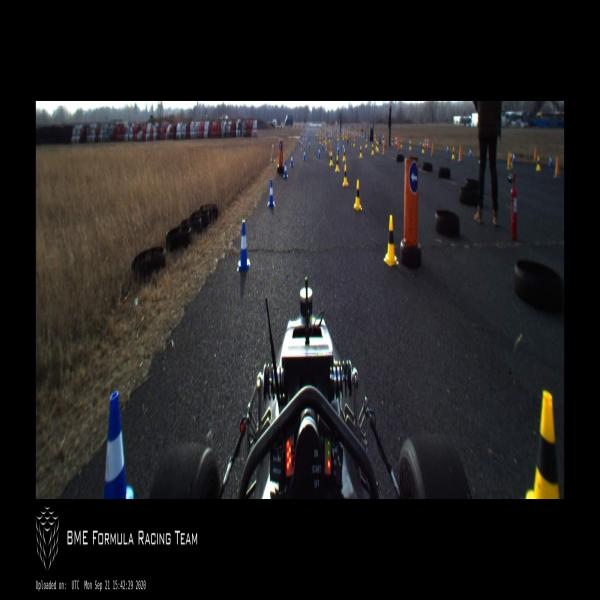blue_cone: (100, 390, 133, 498), (237, 218, 250, 272), (268, 179, 275, 207), (284, 161, 288, 179), (548, 153, 553, 167), (290, 153, 294, 166), (512, 151, 516, 163), (303, 148, 306, 160), (446, 144, 449, 154), (468, 148, 471, 158), (342, 140, 345, 150), (337, 144, 340, 154), (308, 139, 311, 149), (419, 138, 422, 147), (318, 147, 320, 158), (338, 141, 340, 149), (322, 142, 324, 150)
large_orange_cone: (424, 137, 427, 149), (427, 137, 429, 150), (396, 137, 398, 146), (394, 137, 396, 146)
unknown_cone: (554, 156, 561, 177), (270, 144, 275, 163), (507, 150, 512, 168), (458, 146, 462, 162), (431, 142, 434, 157), (383, 141, 386, 154), (384, 135, 386, 148), (351, 134, 353, 146), (398, 140, 400, 150), (330, 142, 332, 152), (301, 142, 303, 152), (326, 141, 328, 151)
yellow_cone: (526, 391, 561, 498), (383, 215, 399, 267), (354, 180, 362, 210), (342, 165, 348, 188), (536, 155, 542, 171), (335, 156, 340, 172), (330, 152, 334, 167), (452, 147, 455, 160), (343, 149, 346, 161), (371, 144, 374, 155), (422, 143, 425, 154), (365, 138, 368, 148), (376, 142, 379, 152), (409, 140, 412, 150), (353, 138, 356, 147), (400, 139, 403, 148), (360, 146, 362, 158), (375, 140, 377, 150), (391, 137, 393, 146)
